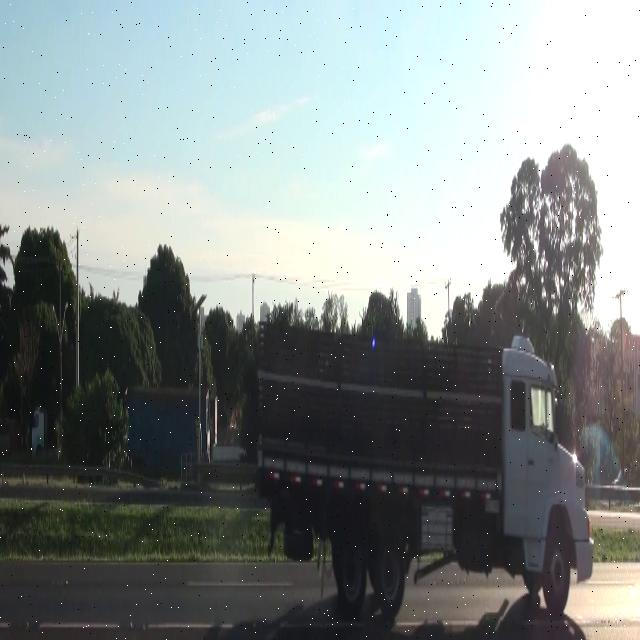-axle: (375, 521, 405, 620), (335, 526, 368, 614), (546, 522, 572, 618)
